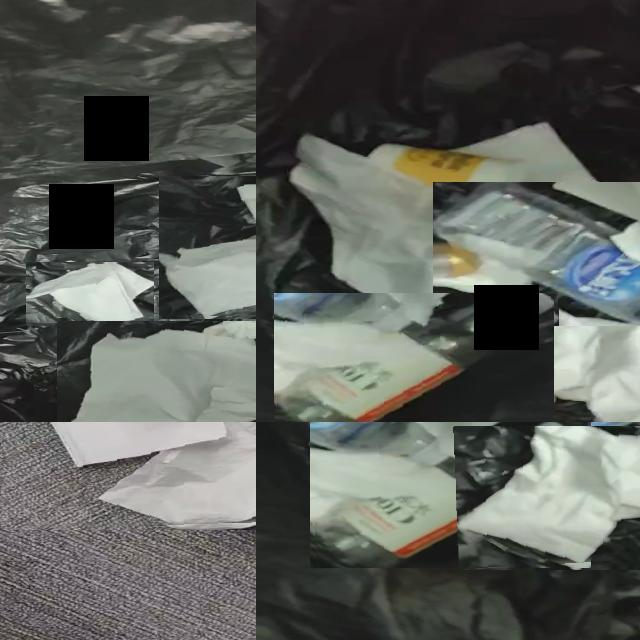bottle: (314, 422, 591, 568), (277, 293, 554, 422), (435, 183, 640, 322), (455, 422, 633, 464)
dixie_cup: (369, 144, 507, 202)
paper: (290, 136, 544, 332), (381, 299, 640, 422), (457, 426, 640, 565), (52, 422, 256, 525), (72, 321, 256, 422), (453, 123, 601, 220), (573, 300, 640, 422), (159, 237, 256, 318), (28, 262, 154, 323), (612, 246, 640, 296)
